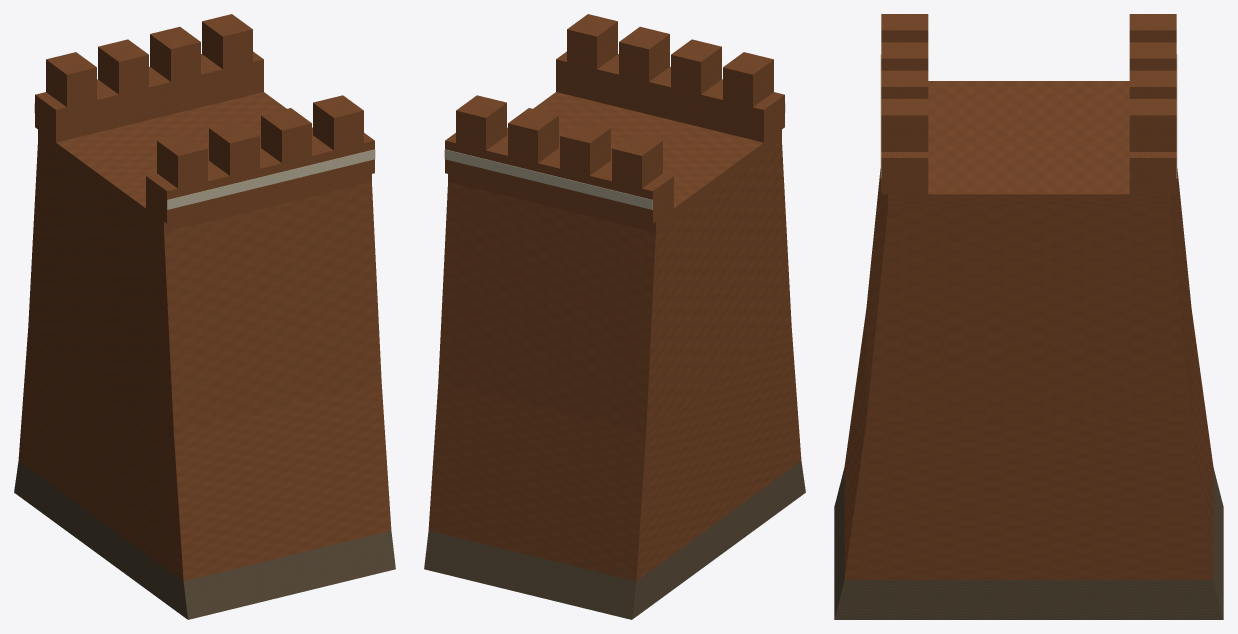
Rendered from Berber_Wall_Age2_gap_4m.fbx.
3 renders of one model, left to right at view 1: azimuth 30°, elevation 25°; view 2: azimuth 150°, elevation 25°; view 3: azimuth 270°, elevation 25°, orthographic. The views are drawn at different scales.
Visible parts, largest first — view 1: gap_4m_rammed_curtain_upper, gap_4m_rammed_curtain_lower, gap_4m_battered_stone_foot, gap_4m_walk_deck, gap_4m_parapet.001, gap_4m_parapet, gap_4m_merlon.003, gap_4m_merlon.007, gap_4m_merlon, gap_4m_merlon.002, gap_4m_merlon.006, gap_4m_merlon.001 (+3 smaller); view 2: gap_4m_rammed_curtain_upper, gap_4m_rammed_curtain_lower, gap_4m_battered_stone_foot, gap_4m_walk_deck, gap_4m_parapet, gap_4m_parapet.001, gap_4m_merlon.003, gap_4m_merlon.007, gap_4m_merlon.002, gap_4m_merlon.004, gap_4m_merlon.006, gap_4m_merlon (+3 smaller); view 3: gap_4m_rammed_curtain_upper, gap_4m_rammed_curtain_lower, gap_4m_walk_deck, gap_4m_battered_stone_foot, gap_4m_merlon.003, gap_4m_merlon.007, gap_4m_parapet, gap_4m_parapet.001, gap_4m_merlon.001, gap_4m_merlon.005, gap_4m_merlon, gap_4m_merlon.002 (+2 smaller).
Boxes of the visible parts, left/top/right/bottom form: gap_4m_rammed_curtain_upper: left=28, top=140, right=381, bottom=432; gap_4m_rammed_curtain_lower: left=18, top=326, right=391, bottom=581; gap_4m_battered_stone_foot: left=14, top=461, right=395, bottom=619; gap_4m_walk_deck: left=38, top=92, right=371, bottom=232; gap_4m_parapet.001: left=35, top=51, right=263, bottom=142; gap_4m_parapet: left=146, top=133, right=374, bottom=223; gap_4m_merlon.003: left=313, top=95, right=363, bottom=150; gap_4m_merlon.007: left=202, top=14, right=252, bottom=69; gap_4m_merlon: left=157, top=133, right=207, bottom=188; gap_4m_merlon.002: left=261, top=108, right=311, bottom=162; gap_4m_merlon.006: left=150, top=26, right=200, bottom=81; gap_4m_merlon.001: left=209, top=120, right=259, bottom=175; gap_4m_rammed_curtain_upper: left=438, top=140, right=791, bottom=432; gap_4m_rammed_curtain_lower: left=428, top=326, right=801, bottom=581; gap_4m_battered_stone_foot: left=424, top=461, right=805, bottom=619; gap_4m_walk_deck: left=448, top=92, right=781, bottom=232; gap_4m_parapet: left=556, top=51, right=784, bottom=142; gap_4m_parapet.001: left=445, top=133, right=673, bottom=223; gap_4m_merlon.003: left=567, top=14, right=617, bottom=69; gap_4m_merlon.007: left=456, top=95, right=506, bottom=150; gap_4m_merlon.002: left=619, top=26, right=669, bottom=81; gap_4m_merlon.004: left=612, top=133, right=662, bottom=188; gap_4m_merlon.006: left=508, top=108, right=558, bottom=162; gap_4m_merlon: left=723, top=52, right=773, bottom=107; gap_4m_rammed_curtain_upper: left=866, top=169, right=1191, bottom=422; gap_4m_rammed_curtain_lower: left=844, top=310, right=1213, bottom=580; gap_4m_walk_deck: left=888, top=81, right=1169, bottom=206; gap_4m_battered_stone_foot: left=834, top=467, right=1223, bottom=619; gap_4m_merlon.003: left=881, top=99, right=928, bottom=151; gap_4m_merlon.007: left=1129, top=99, right=1176, bottom=151; gap_4m_parapet: left=881, top=152, right=928, bottom=194; gap_4m_parapet.001: left=1129, top=152, right=1176, bottom=194; gap_4m_merlon.001: left=881, top=42, right=928, bottom=70; gap_4m_merlon.005: left=1129, top=42, right=1176, bottom=70; gap_4m_merlon: left=881, top=14, right=928, bottom=42; gap_4m_merlon.002: left=881, top=70, right=928, bottom=98.
Size of the model in its own units: 400 by 820 by 580.
Materials: 3 (3 with a texture image).
